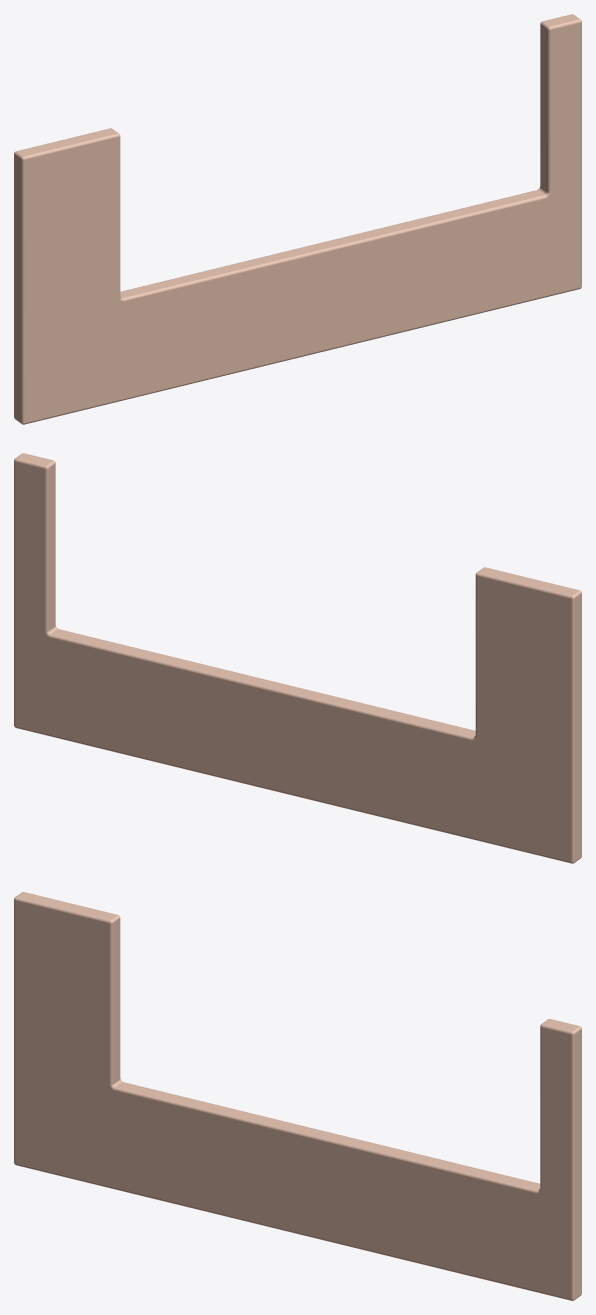
Rendered from ShopWall.fbx.
3 renders of one model, top to bottom at view 1: azimuth 30°, elevation 25°; view 2: azimuth 150°, elevation 25°; view 3: azimuth 330°, elevation 25°, orthographic.
Visible parts, largest first — view 1: Plane.003; view 2: Plane.003; view 3: Plane.003.
Boxes of the visible parts, left/top/right/bottom form: Plane.003: left=14, top=14, right=581, bottom=424; Plane.003: left=14, top=453, right=581, bottom=863; Plane.003: left=14, top=892, right=581, bottom=1300.
Size of the model in its own units: 872 by 401 by 25.4.
